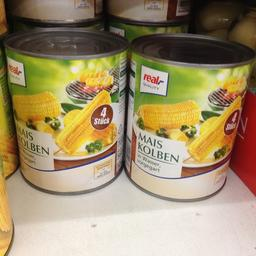corn: (124, 32, 254, 200), (2, 26, 127, 194)
